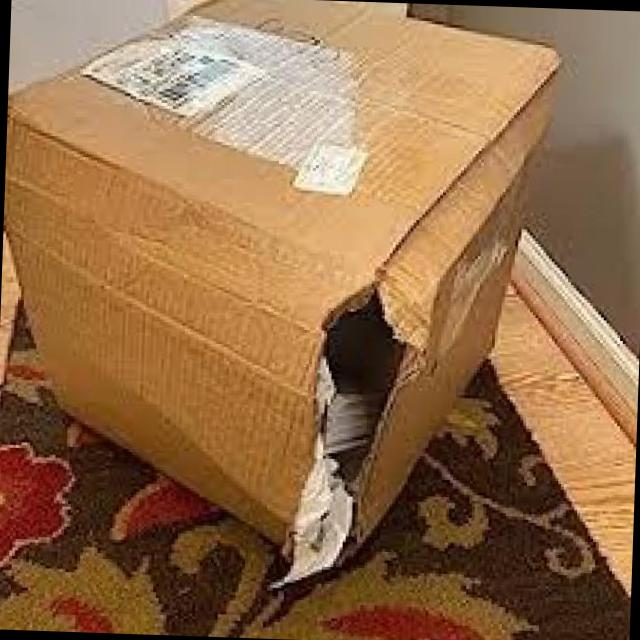box: (327, 368, 538, 614), (349, 183, 523, 378), (364, 15, 525, 191), (170, 456, 329, 615), (200, 285, 324, 394), (170, 386, 333, 463), (215, 225, 317, 291)
